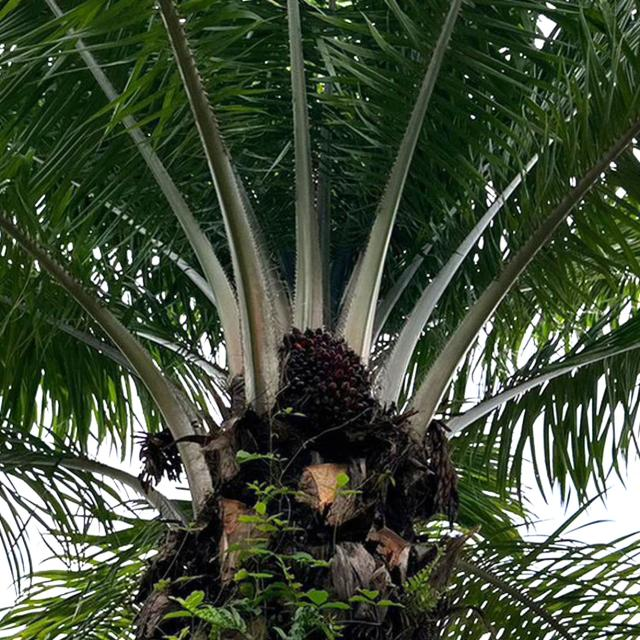ripe: (276, 315, 374, 422)
